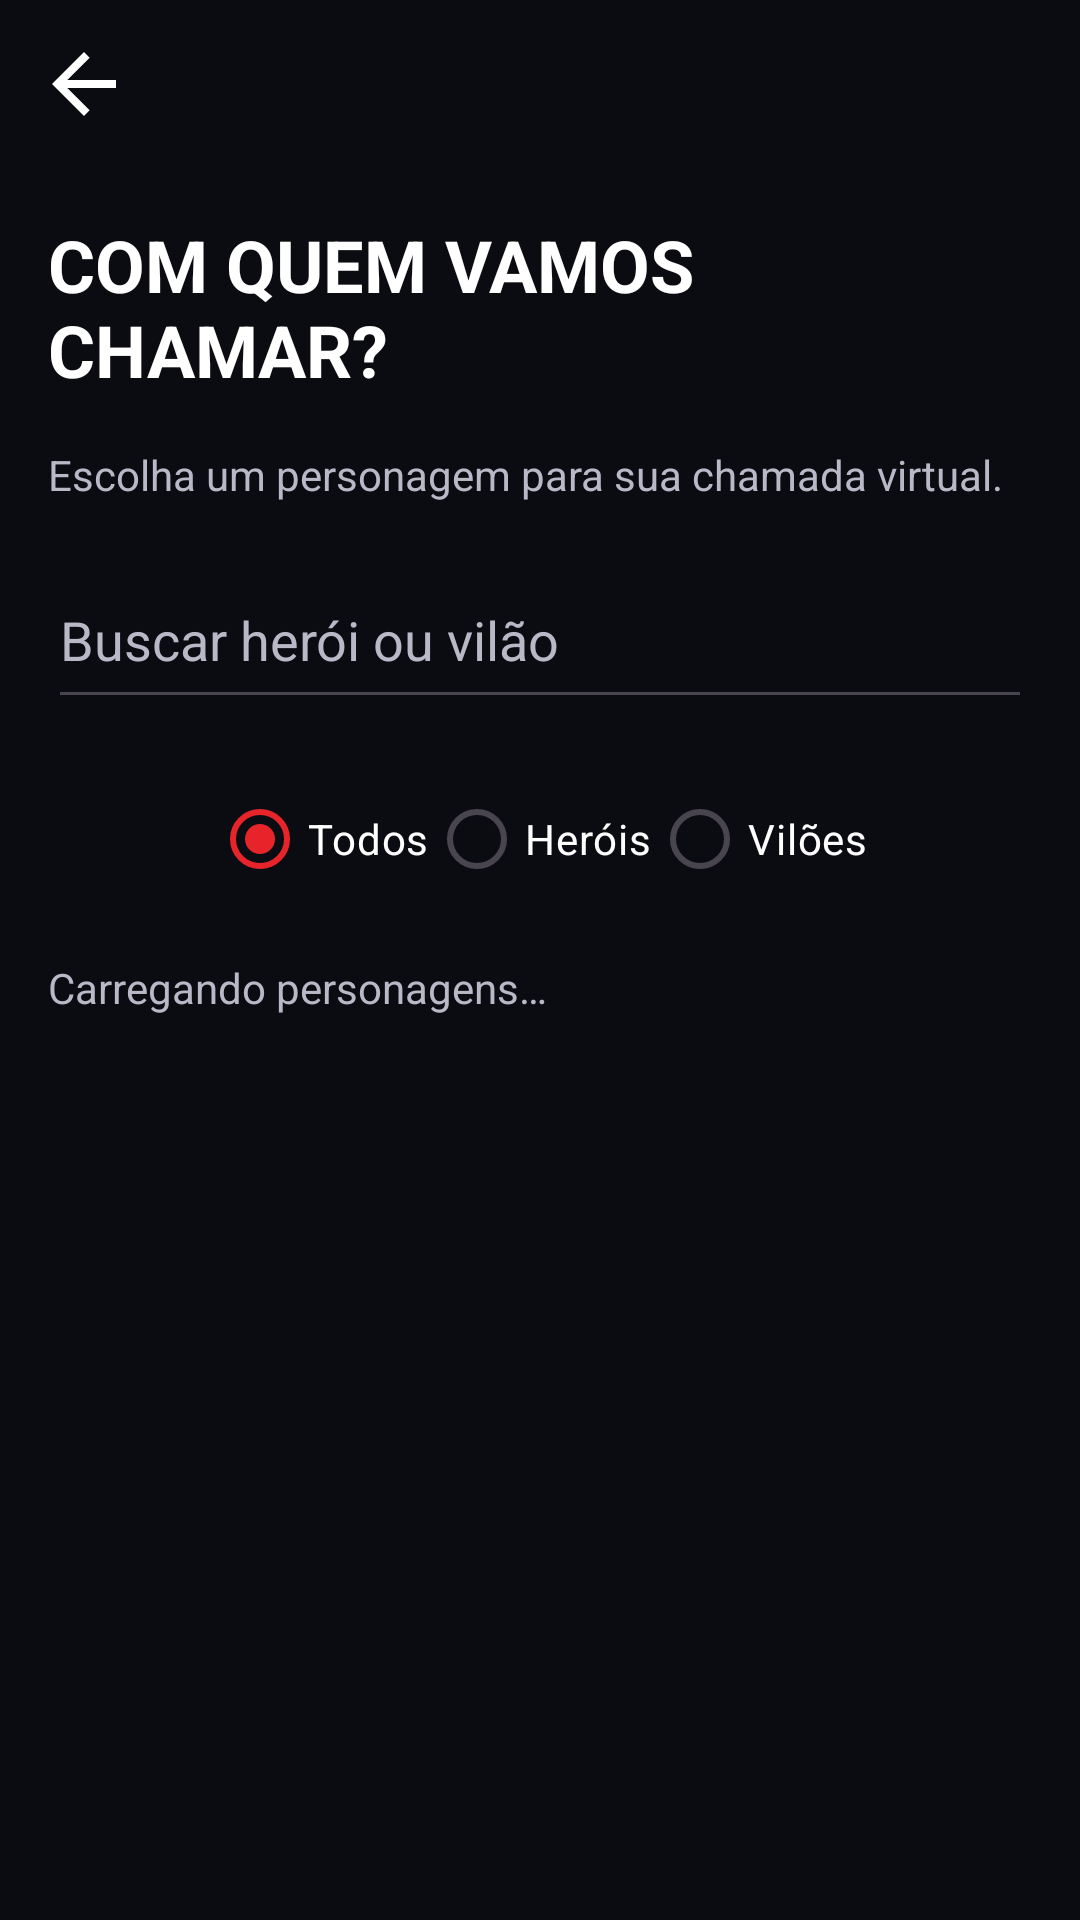

Where to tap for icons on this 1080×1920 app screen, as [x,y]:
Voltar: [84,84]
